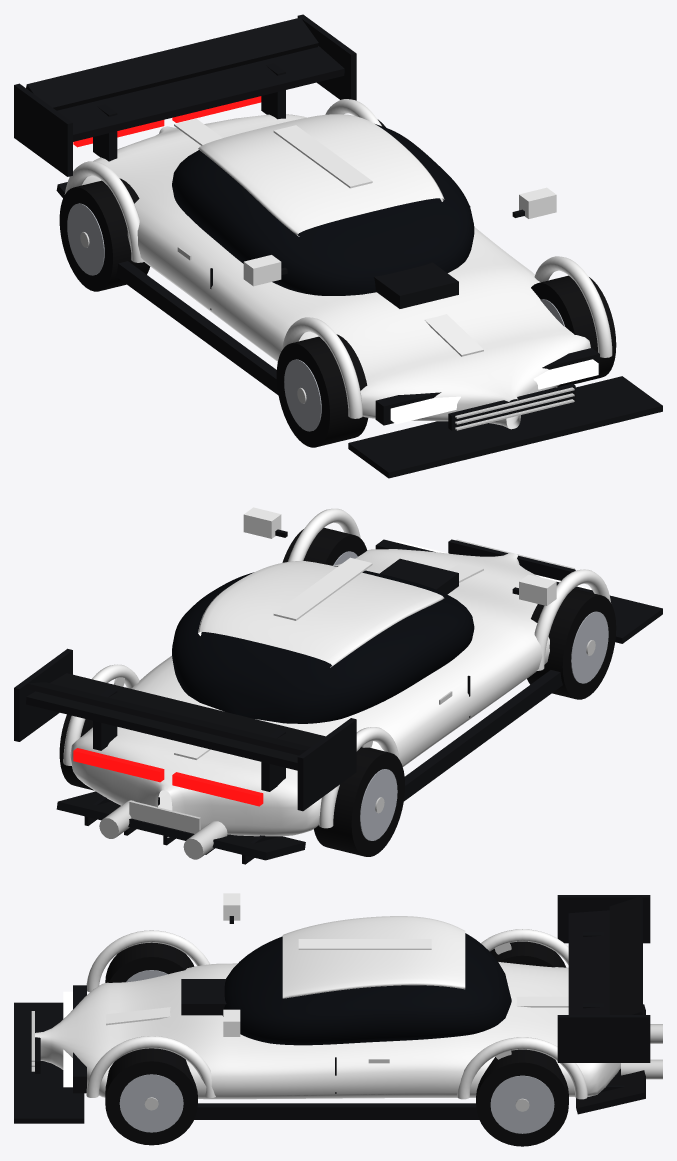
Rendered from car_sprinter.glb.
3 renders of one model, top to bottom at view 1: azimuth 30°, elevation 25°; view 2: azimuth 150°, elevation 25°; view 3: azimuth 270°, elevation 25°, orthographic. The views are drawn at different scales.
Parts seen in each view (by area): view 1: body, cabin, roof, tire (×3), splitter, wing_flap, wing_main, skirtR, rim (×2), plate_end-1, scoop, flareR1.32 (+15 smaller); view 2: body, cabin, roof, tire (×4), wing_main, rim (×2), skirtR, plate_end-1, wing_flap, diffuser, plate_end1, stripe_r (+16 smaller); view 3: body, cabin, tire (×4), roof, rim (×2), splitter, skirtL, plate_end1, wing_main, wing_flap, flareL1.32, flareL-1.32 (+12 smaller).
Boxes of the visible parts, box(x1,y1,x2,y2) form: body: box(82, 114, 590, 429); cabin: box(172, 124, 474, 295); roof: box(198, 114, 444, 236); tire (×3): box(59, 178, 616, 447); splitter: box(348, 376, 662, 478); wing_flap: box(26, 17, 318, 110); wing_main: box(57, 46, 344, 141); skirtR: box(116, 261, 278, 395); rim (×2): box(67, 203, 321, 431); plate_end-1: box(14, 83, 72, 176); scoop: box(374, 262, 458, 308); flareR1.32: box(281, 317, 362, 418); body: box(70, 549, 549, 837); cabin: box(172, 566, 474, 723); roof: box(198, 561, 444, 667); tire (×4): box(59, 527, 616, 856); wing_main: box(26, 673, 325, 770); rim (×2): box(360, 611, 608, 840); skirtR: box(404, 670, 562, 801); plate_end-1: box(297, 718, 356, 811); wing_flap: box(26, 682, 310, 755); diffuser: box(56, 791, 305, 860); plate_end1: box(14, 648, 72, 741); stripe_r: box(273, 557, 372, 620); body: box(35, 962, 620, 1099); cabin: box(222, 933, 511, 1045); tire (×4): box(105, 941, 568, 1146); roof: box(282, 916, 465, 998); rim (×2): box(119, 1074, 554, 1133); splitter: box(14, 1002, 84, 1123); skirtL: box(194, 1103, 479, 1119); plate_end1: box(557, 1015, 650, 1062); wing_main: box(568, 910, 609, 1014); wing_flap: box(609, 896, 642, 1014); flareL1.32: box(86, 1036, 215, 1097); flareL-1.32: box(457, 1037, 587, 1099).
Size of the model in its own units: 2.16 by 1.11 by 4.62.
